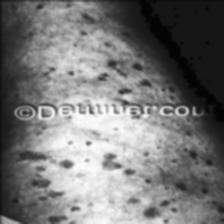Non-Cancerous Skin Condition: (97, 59, 152, 95), (98, 150, 120, 172), (48, 214, 60, 223), (31, 180, 39, 186), (38, 196, 48, 200), (72, 205, 78, 211)
